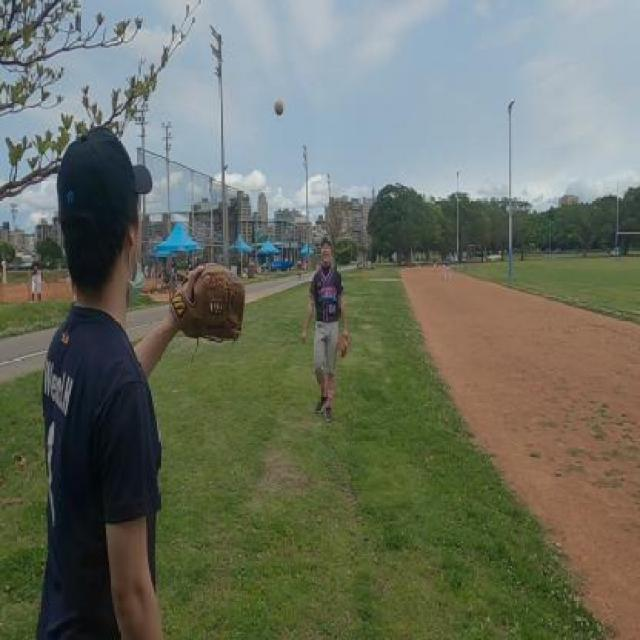baseball: (274, 98, 284, 117)
